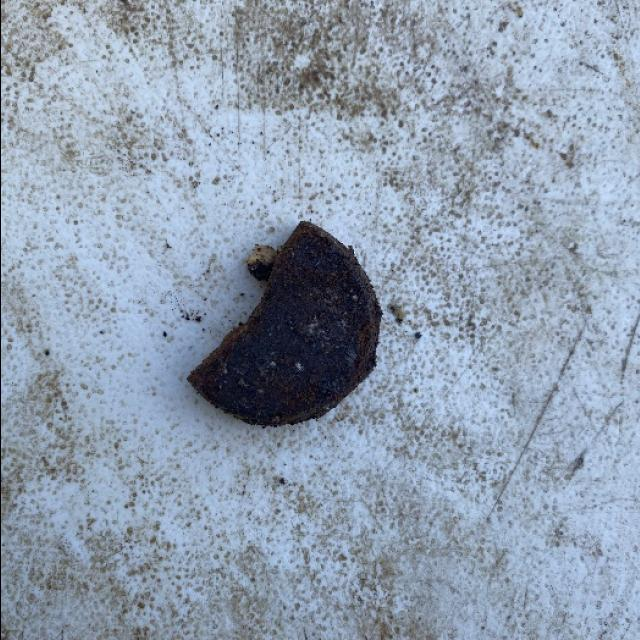organik: (199, 223, 378, 433)
